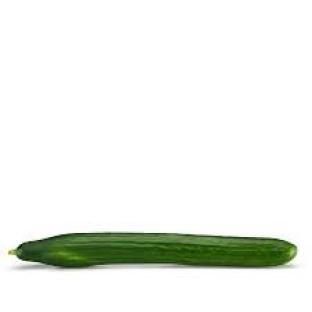Cucumber: (10, 233, 296, 267)
